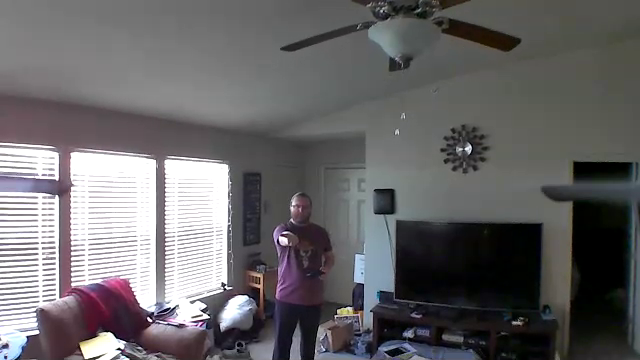land: (278, 232, 300, 248)
